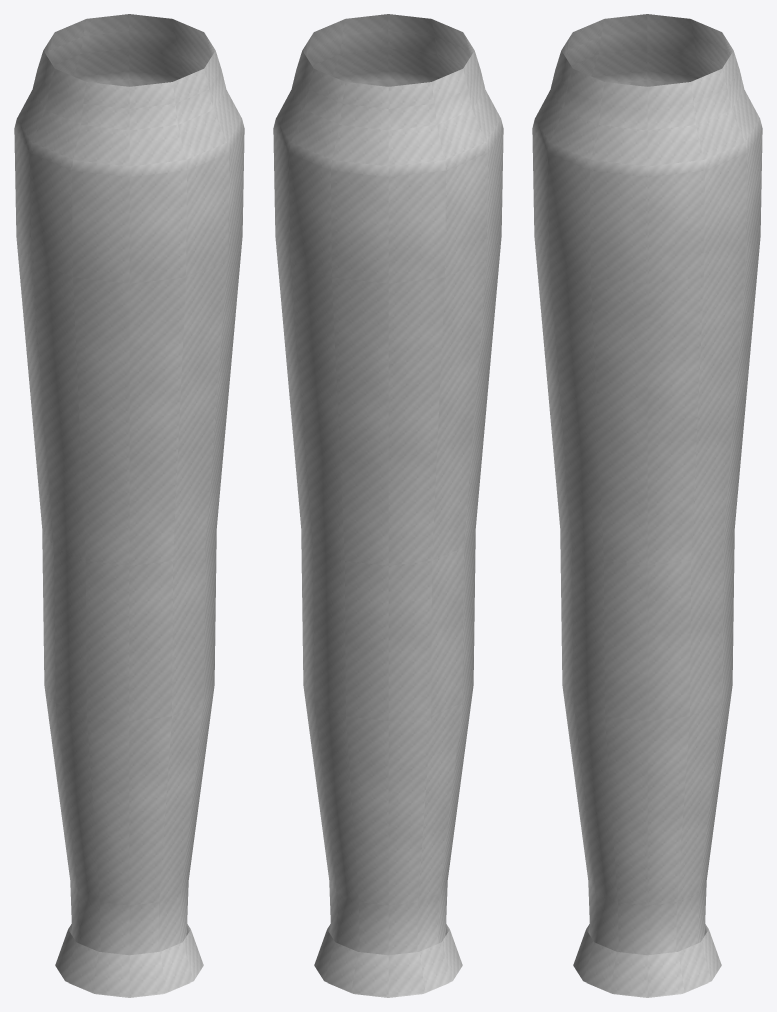
The model's file is pants_trousers_leg_r.glb.
The picture shows the model from 3 angles, left to right: view 1: azimuth 30°, elevation 25°; view 2: azimuth 150°, elevation 25°; view 3: azimuth 270°, elevation 25°; orthographic projection.
Parts seen in each view (by area): view 1: pants_trousers_leg_r; view 2: pants_trousers_leg_r; view 3: pants_trousers_leg_r.
Part boxes in pixels (x1,y1,x2,y2): pants_trousers_leg_r: [14, 14, 244, 997]; pants_trousers_leg_r: [273, 14, 503, 997]; pants_trousers_leg_r: [532, 14, 762, 997].
Size of the model in its own units: 0.2137 by 0.94 by 0.2137.
Materials: 1 (1 with a texture image).
